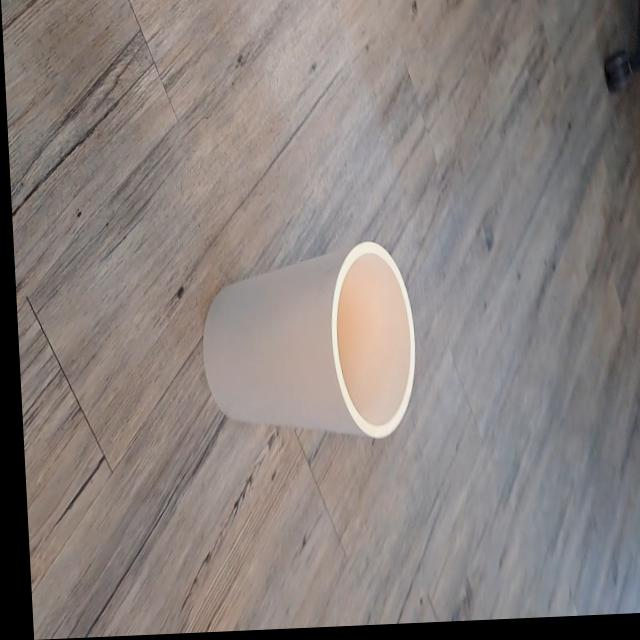CORAL: (191, 219, 432, 461)
